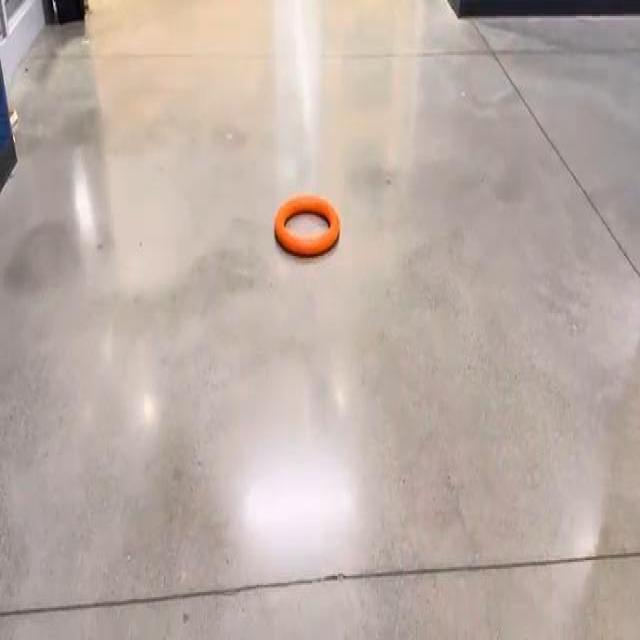note: (274, 196, 340, 256)
